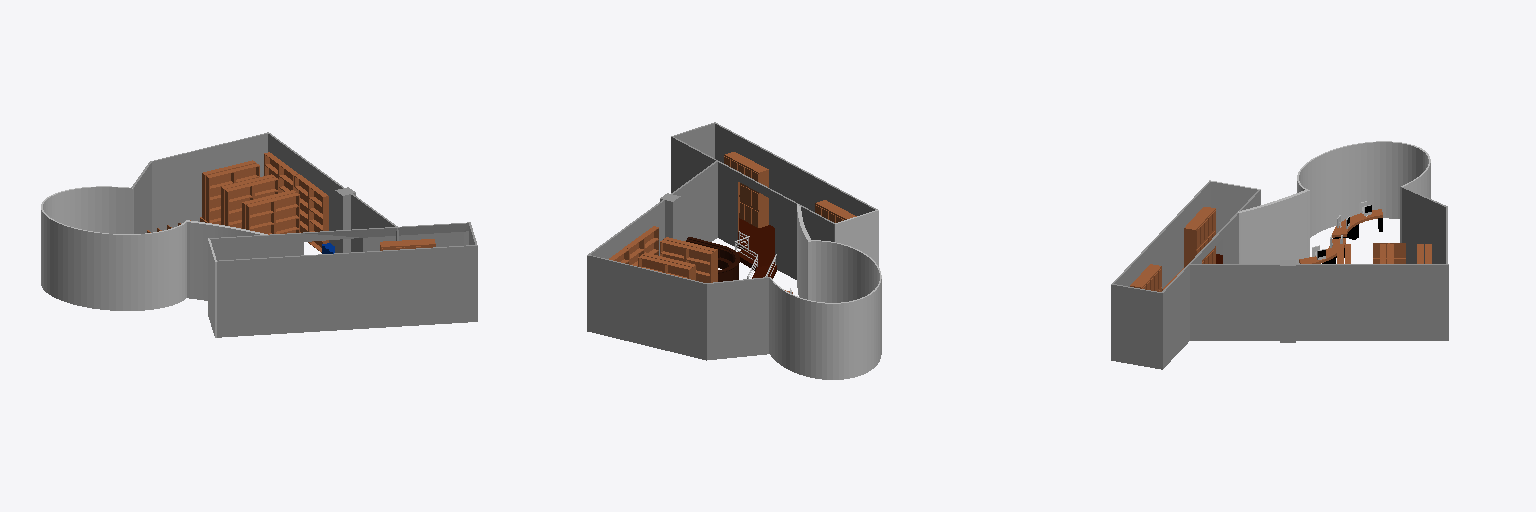
The model's file is Library.obj.
3 renders of one model, left to right at view 1: azimuth 30°, elevation 25°; view 2: azimuth 150°, elevation 25°; view 3: azimuth 270°, elevation 25°, orthographic.
Visible parts, largest first — view 1: Cube.005_Cube.007, Cylinder_Cylinder.002, Cube.001, Cube.004_Cube.006, Cube.008_Cube.010, Cube.002_Cube.003, Cube.036_Cube.037, Cube.680_Cube.703, Cube.220_Cube.243, Cube.128_Cube.151, Cube.009_Cube.011, Cube.588_Cube.611 (+1 smaller); view 2: Cube.001, Cylinder_Cylinder.002, Cube.004_Cube.006, Cube.008_Cube.010, Cube.005_Cube.007, Cube.012, Cube.006_Cube.008, Cube.010_Cube.002, Cube.312_Cube.335, Cube.002_Cube.003, Cylinder.023_Cylinder.011, Cube.003_Cube.005 (+3 smaller); view 3: Cube.008_Cube.010, Cylinder_Cylinder.002, Cube.002_Cube.003, Cube.003_Cube.005, Cube.004_Cube.006, Cube.001, Cube.005_Cube.007, Cube.006_Cube.008, Cube.011_Cube.014, Cube.009_Cube.011, Cube.752_Cube.015, Cube.012.
Boxes of the visible parts, box(x1,y1,x2,y2) form: Cube.005_Cube.007: box(217, 245, 476, 337); Cylinder_Cylinder.002: box(41, 186, 187, 310); Cube.001: box(131, 132, 268, 233); Cube.004_Cube.006: box(209, 222, 469, 260); Cube.008_Cube.010: box(267, 132, 398, 251); Cube.002_Cube.003: box(187, 220, 267, 300); Cube.036_Cube.037: box(246, 193, 299, 234); Cube.680_Cube.703: box(294, 174, 328, 252); Cube.220_Cube.243: box(206, 163, 259, 224); Cube.128_Cube.151: box(225, 177, 278, 228); Cube.009_Cube.011: box(335, 187, 355, 252); Cube.588_Cube.611: box(264, 152, 297, 192); Cube.001: box(589, 255, 769, 360); Cylinder_Cylinder.002: box(769, 240, 881, 379); Cube.004_Cube.006: box(671, 136, 834, 279); Cube.008_Cube.010: box(587, 160, 717, 331); Cube.005_Cube.007: box(715, 123, 877, 227); Cube.012: box(724, 152, 768, 227); Cube.006_Cube.008: box(834, 210, 878, 266); Cube.010_Cube.002: box(737, 218, 776, 278); Cube.312_Cube.335: box(660, 240, 713, 282); Cube.002_Cube.003: box(797, 204, 811, 299); Cylinder.023_Cylinder.011: box(686, 237, 739, 281); Cube.003_Cube.005: box(671, 122, 715, 192); Cube.008_Cube.010: box(1189, 264, 1448, 340); Cylinder_Cylinder.002: box(1297, 141, 1430, 257); Cube.002_Cube.003: box(1238, 190, 1307, 263); Cube.003_Cube.005: box(1111, 284, 1163, 369); Cube.004_Cube.006: box(1161, 190, 1260, 367); Cube.001: box(1402, 187, 1447, 340); Cube.005_Cube.007: box(1112, 181, 1210, 288); Cube.006_Cube.008: box(1209, 180, 1260, 254); Cube.011_Cube.014: box(1184, 207, 1215, 267); Cube.009_Cube.011: box(1280, 260, 1295, 342); Cube.752_Cube.015: box(1332, 209, 1382, 239); Cube.012: box(1130, 264, 1161, 291).
Bounding box in the file's own units: 337 × 79.61 × 315.